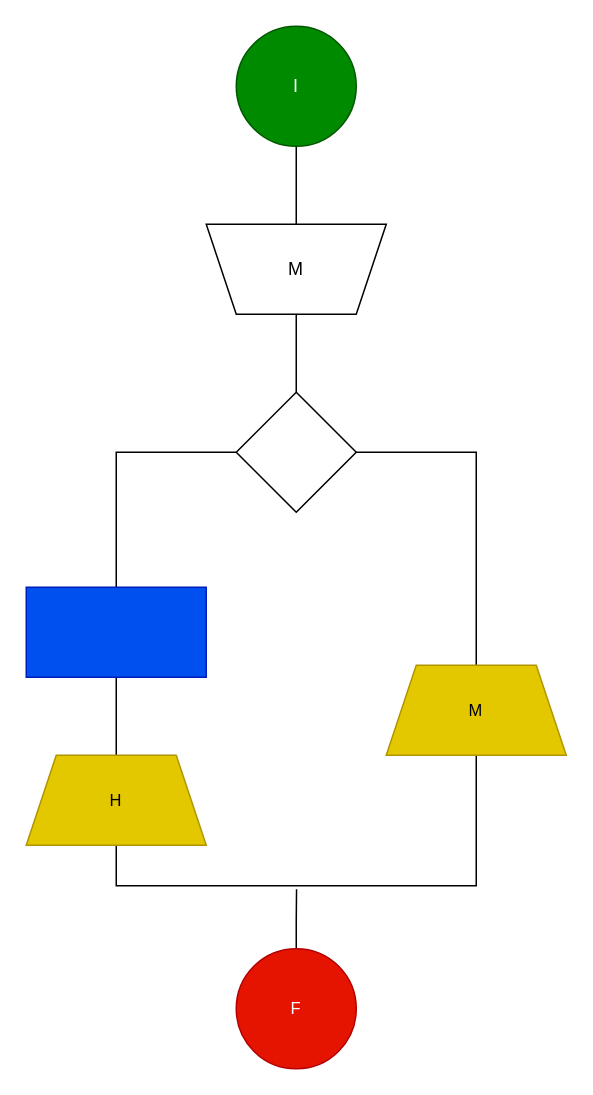
This 593x1095 diagram has some shape labels left out. Each missing label, with the centre of its shape:
"H = M / 60" goes at (115,631).
"M > 60" goes at (295,451).
